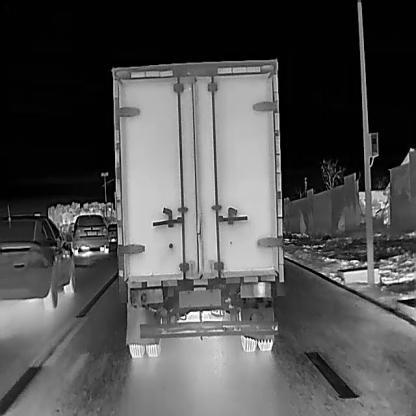car: (111, 55, 284, 359), (0, 203, 75, 310), (70, 212, 110, 255)
